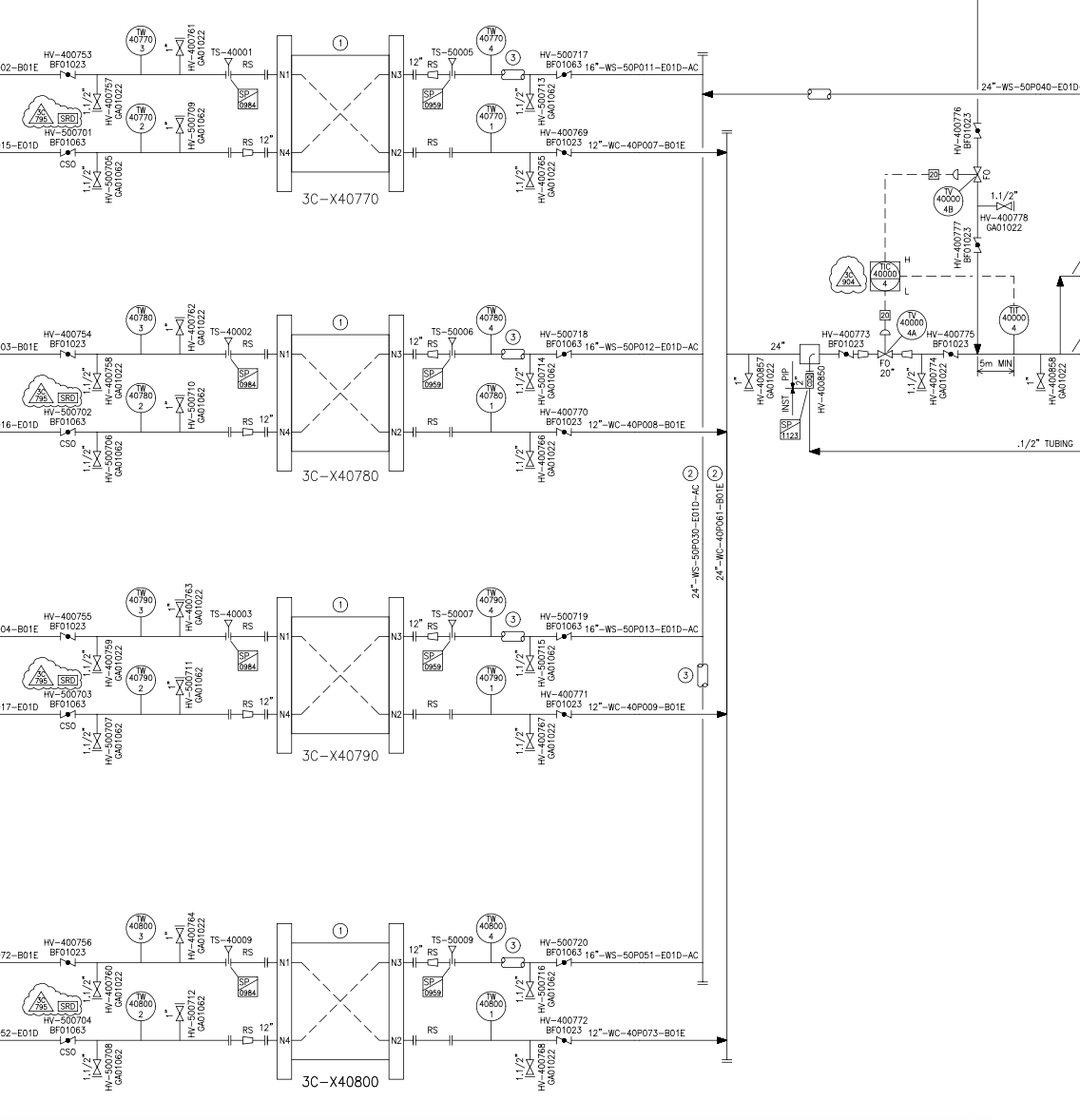Instrument: (460, 658, 511, 699), (118, 295, 163, 341), (466, 298, 515, 339), (471, 93, 513, 138), (993, 299, 1036, 341), (469, 20, 513, 59), (469, 580, 512, 619), (470, 986, 511, 1026), (121, 907, 160, 949), (471, 377, 511, 417), (120, 100, 159, 141), (122, 381, 161, 420), (122, 663, 163, 700), (929, 182, 967, 221), (123, 19, 161, 58), (121, 582, 159, 620), (471, 906, 508, 945), (123, 988, 159, 1025), (895, 305, 930, 341)
Instrument-square: (866, 252, 906, 295)
